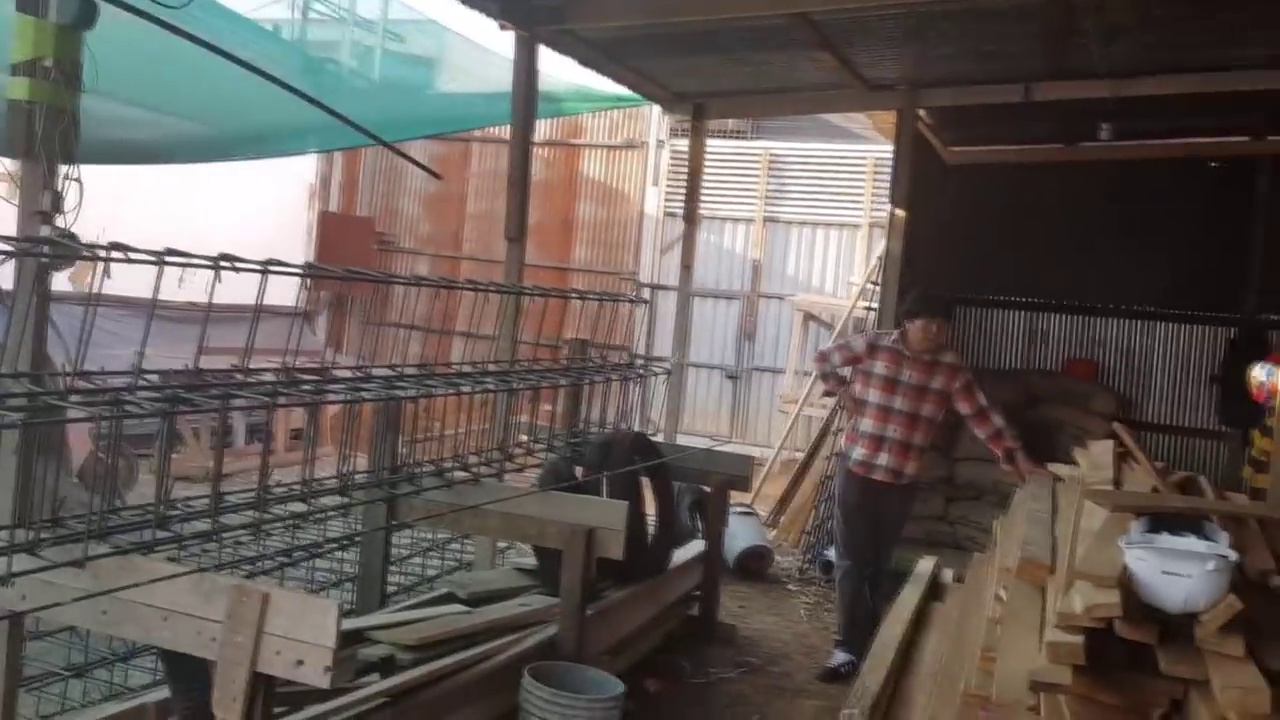helmet-off: (894, 287, 962, 359)
person: (810, 288, 1038, 680)
